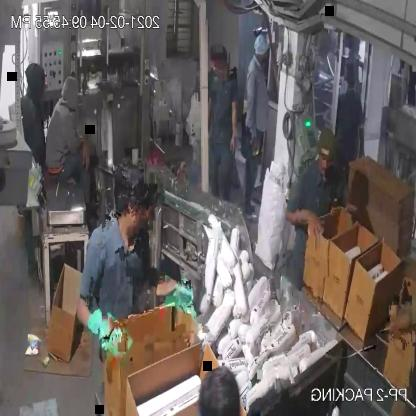glove: (80, 300, 132, 367), (154, 266, 196, 313)
no_glove: (380, 291, 416, 354), (286, 194, 326, 238), (244, 65, 259, 159), (324, 192, 360, 228), (228, 86, 240, 157), (76, 130, 90, 178)
